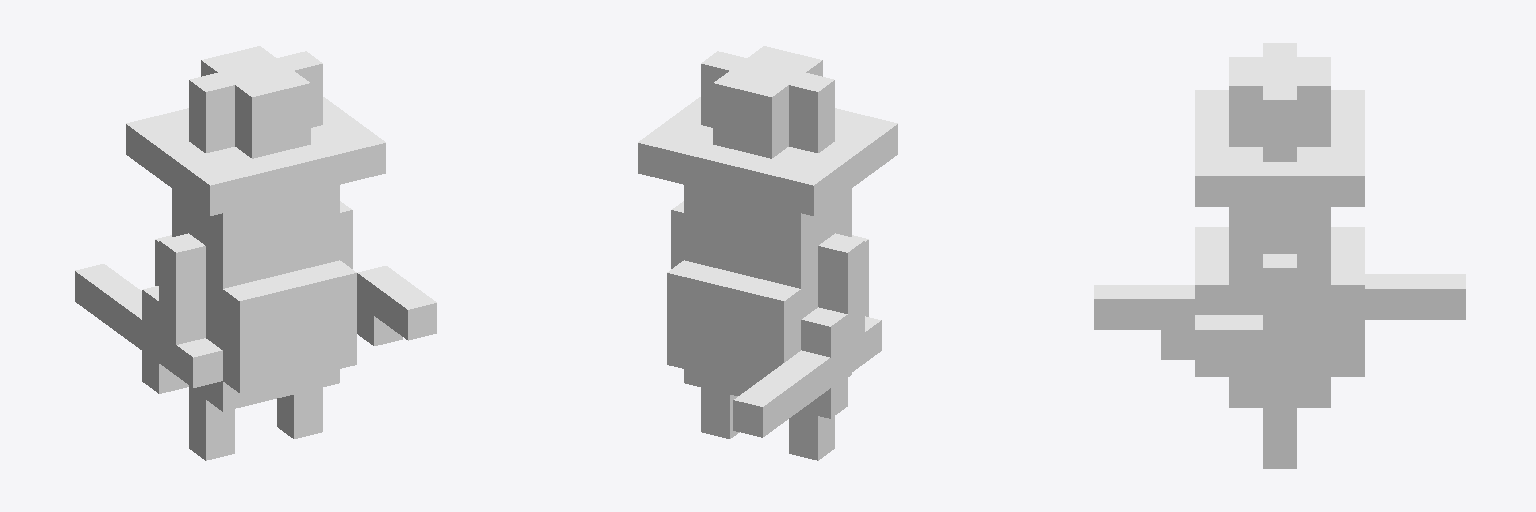
The model's file is idle_2.obj.
The picture shows the model from 3 angles: view 1: azimuth 30°, elevation 25°; view 2: azimuth 150°, elevation 25°; view 3: azimuth 270°, elevation 25°; orthographic projection.
Bounding box in the file's own units: 6 × 12 × 11.